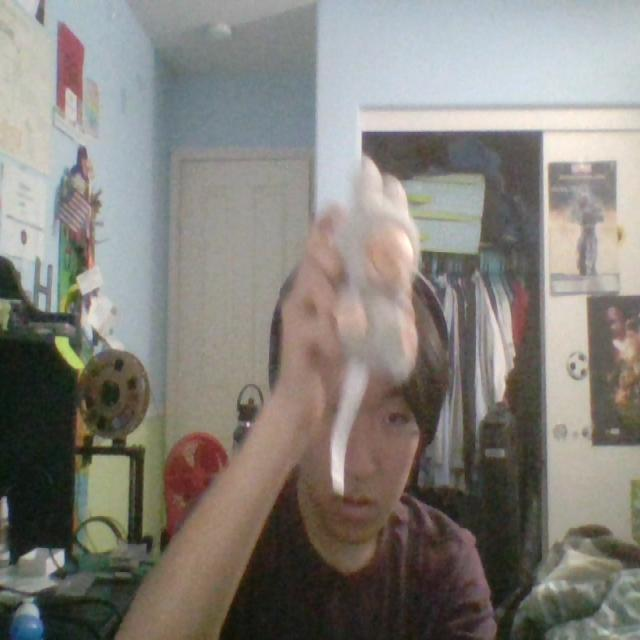labubu: (336, 157, 419, 383)
